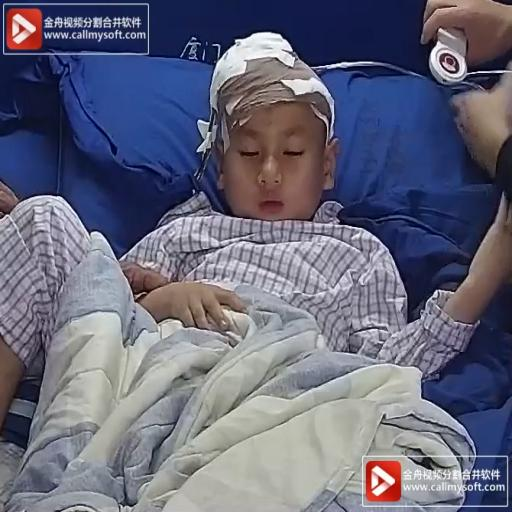Seizure: (195, 38, 349, 227)
